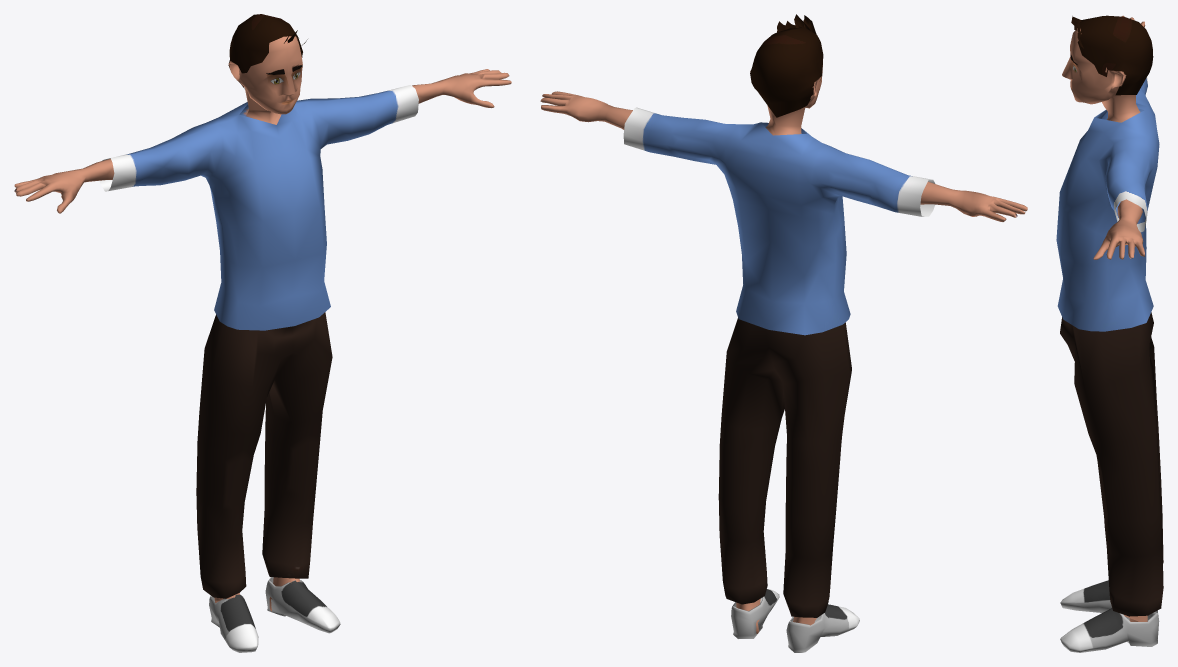
File: Comunicador.fbx
3 views of the same model, side by side, from view 1: azimuth 30°, elevation 25°; view 2: azimuth 150°, elevation 25°; view 3: azimuth 270°, elevation 25° (orthographic). The views are drawn at different scales.
Visible parts, largest first — view 1: meshlp; view 2: meshlp; view 3: meshlp.
Part boxes in pixels (box(x1,y1,x2,y2)): meshlp: box(14, 14, 511, 652); meshlp: box(540, 14, 1027, 652); meshlp: box(1056, 15, 1163, 652).
Size of the model in its own units: 12.45 by 14.87 by 2.33.
